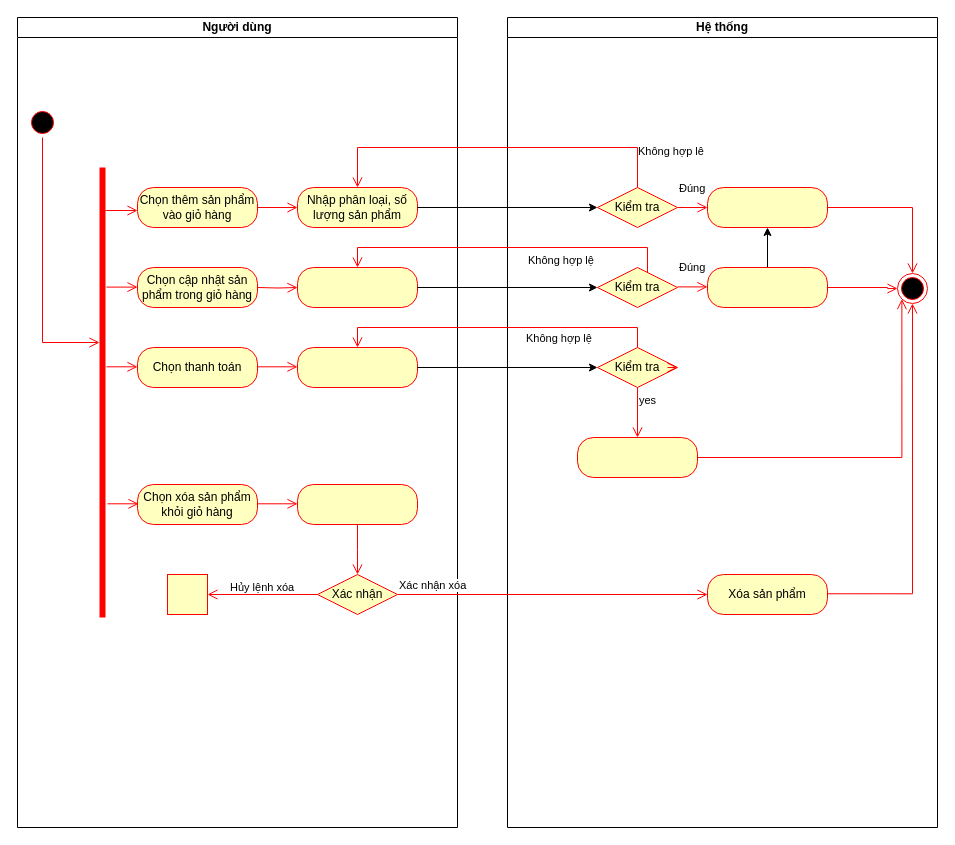
This 955x845 diagram has some shape labels left out. The centre of each missing label's shape, as x and y in pixels:
Cập nhật sản phẩm trong giỏ hàng: the point at 767,287
Lưu sản phẩm vào giỏ hàng: the point at 767,207
Nhập phân loại || số lượng mới: the point at 357,287
Nhập thông tin thanh toán: the point at 357,367
Xác nhận đơn hàng: the point at 637,457
Yêu cầu xác nhận xóa: the point at 357,504
